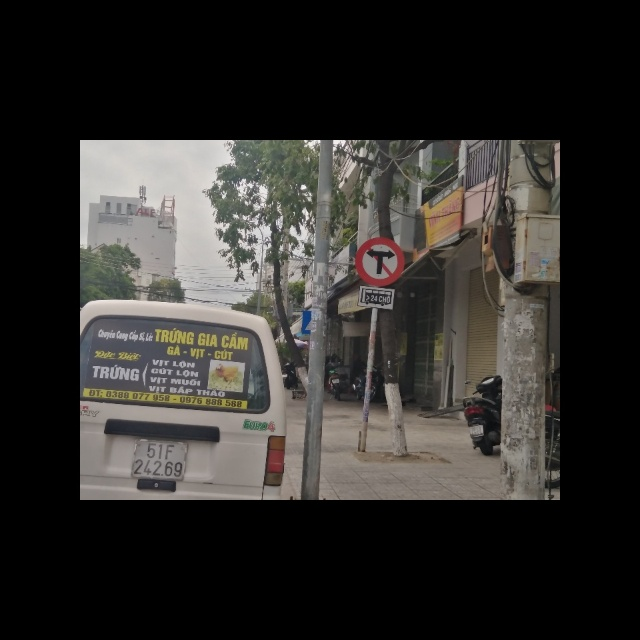Cấm rẽ trái và rẽ phải: (355, 236, 405, 285)
